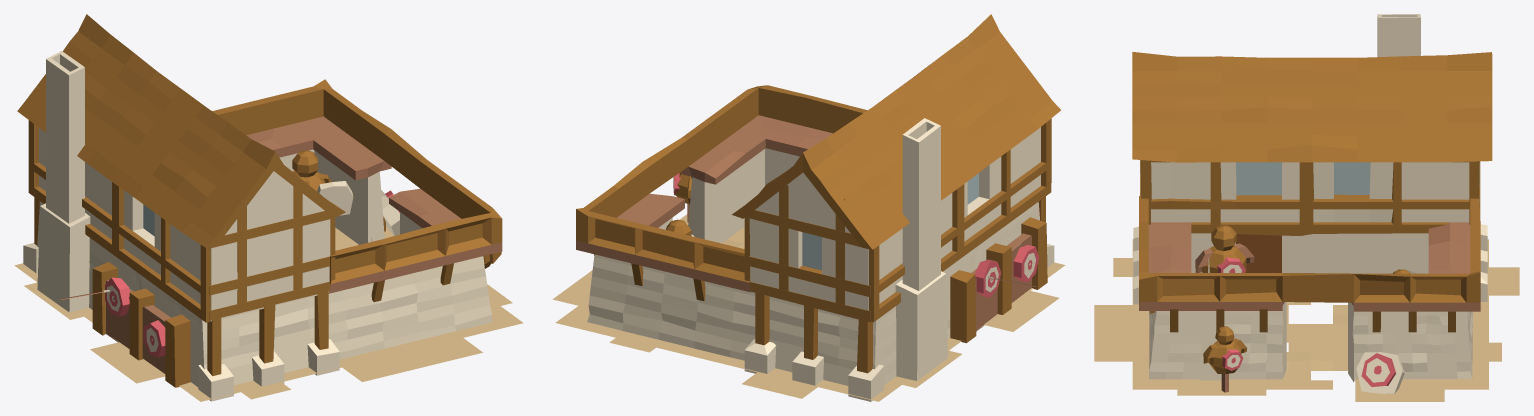
Rendered from armyCamp.gltf.
The picture shows the model from 3 angles, left to right: view 1: azimuth 30°, elevation 25°; view 2: azimuth 150°, elevation 25°; view 3: azimuth 270°, elevation 25°; orthographic projection. The views are drawn at different scales.
Parts seen in each view (by area): view 1: ArmyCamp; view 2: ArmyCamp; view 3: ArmyCamp.
Part boxes in pixels (left/top/right/bottom): ArmyCamp: left=14, top=14, right=523, bottom=401; ArmyCamp: left=552, top=14, right=1065, bottom=401; ArmyCamp: left=1094, top=14, right=1519, bottom=401.
Bounding box in the file's own units: 9.67 × 5.82 × 9.21.
1 material, 1 textured.
